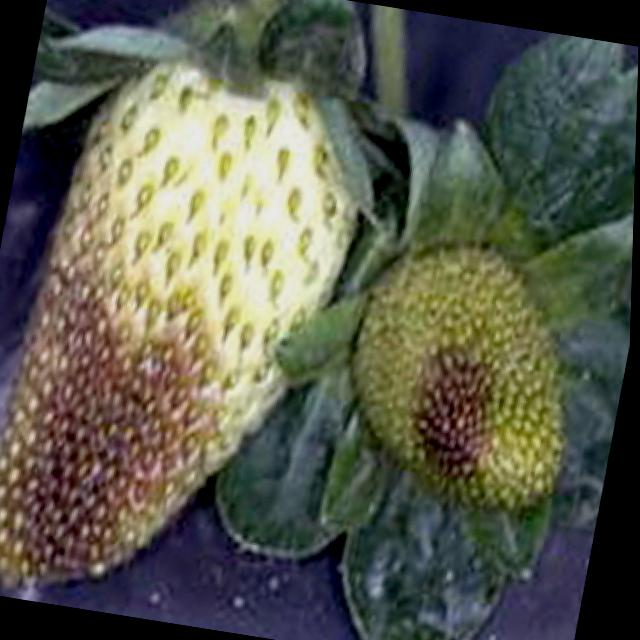Anthracnose Fruit Rot: (0, 177, 219, 583), (410, 328, 516, 496)
